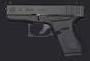gun: (1, 1, 90, 61)
